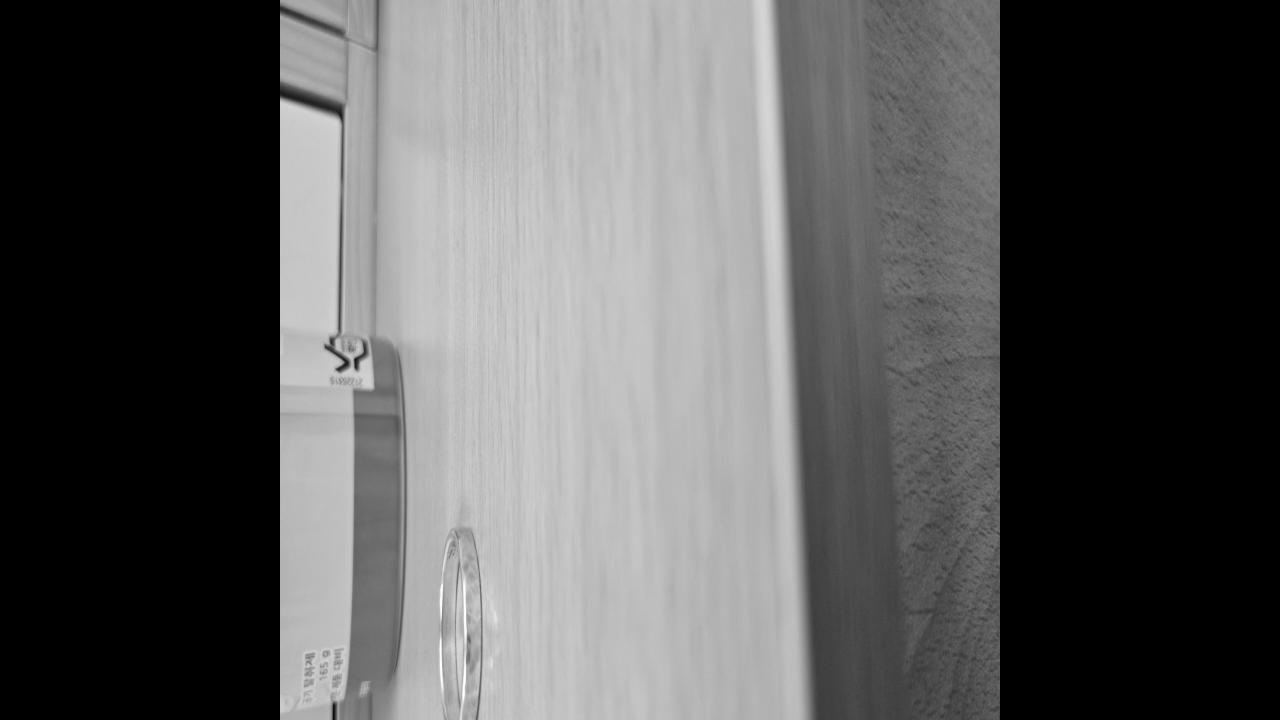ring: (438, 522, 484, 720)
